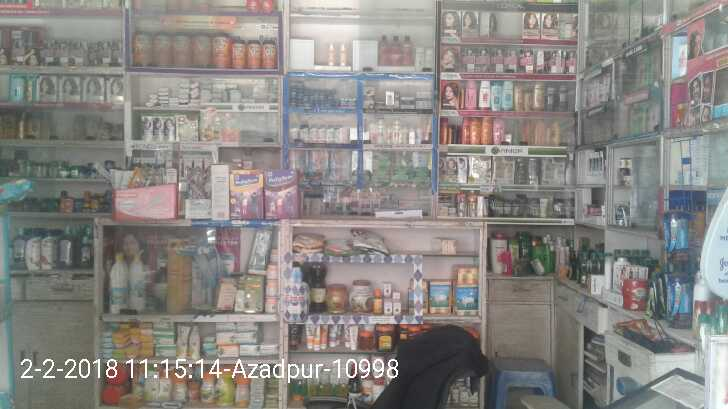vicks: (288, 77, 359, 110)
